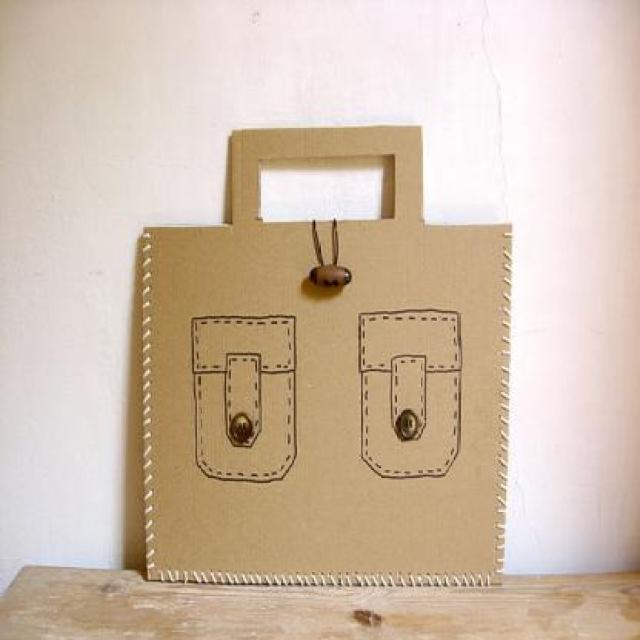box: (130, 101, 516, 610)
